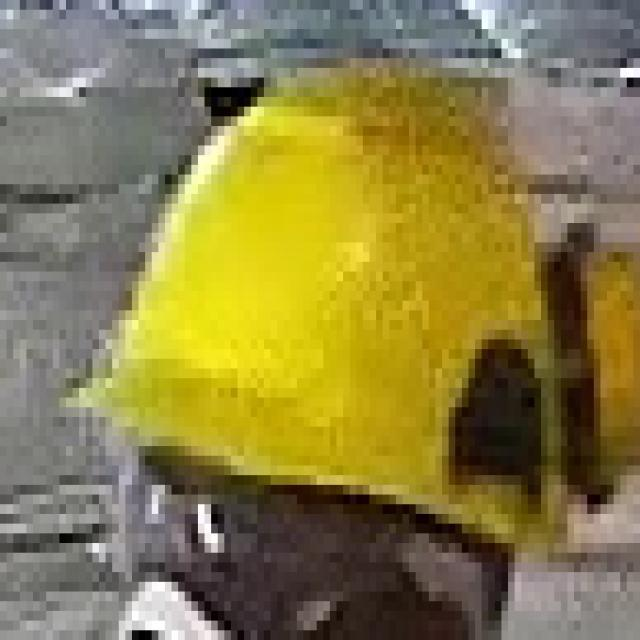yellow helmet: (86, 43, 640, 551)
